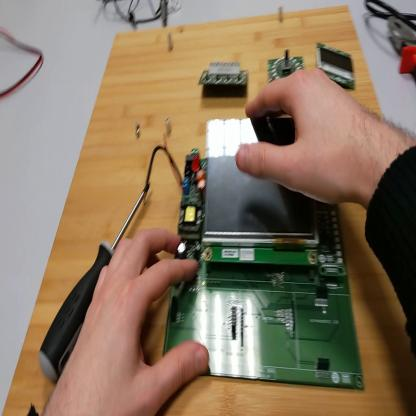hand: (44, 230, 212, 416), (238, 66, 366, 206)
low voltage board: (143, 120, 361, 390)
oscilloscope probe tip: (161, 1, 169, 30)
pliers: (390, 15, 416, 83)
screwdriver-: (39, 180, 151, 386)
working area: (4, 7, 415, 415)
